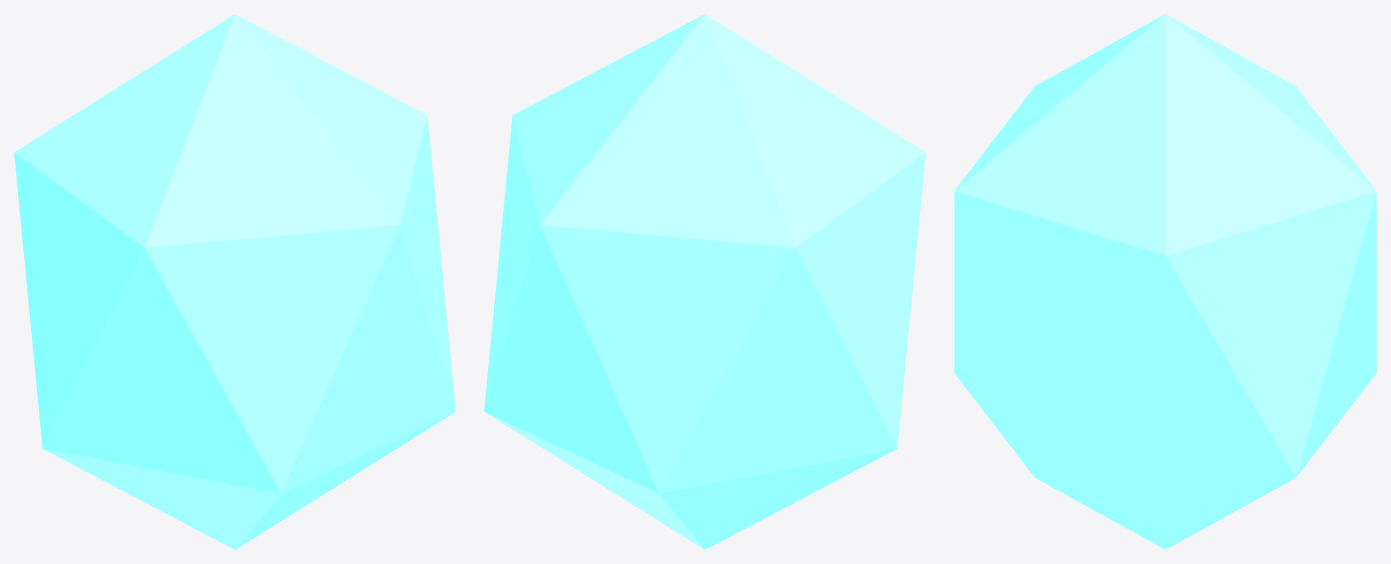
File: crystal2.glb
3 renders of one model, left to right at view 1: azimuth 30°, elevation 25°; view 2: azimuth 150°, elevation 25°; view 3: azimuth 270°, elevation 25°, orthographic.
Visible parts, largest first — view 1: CrystalGem; view 2: CrystalGem; view 3: CrystalGem.
Boxes of the visible parts, x1,y1,x2,y2 form: CrystalGem: [14, 14, 455, 549]; CrystalGem: [484, 14, 925, 549]; CrystalGem: [954, 14, 1376, 549].
Size of the model in its own units: 1.23 by 1.64 by 1.17.
